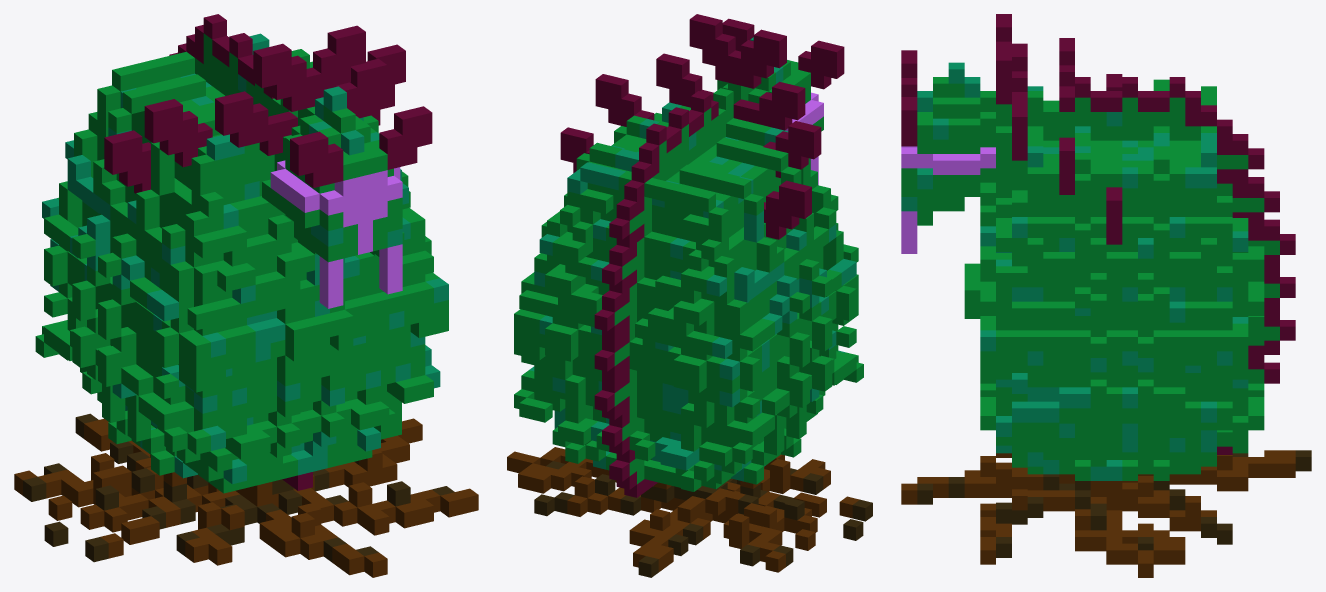
Rendered from Boss_Boss_Suculentas_fase_4.obj.
The picture shows the model from 3 angles, left to right: view 1: azimuth 30°, elevation 25°; view 2: azimuth 150°, elevation 25°; view 3: azimuth 270°, elevation 25°; orthographic projection. The views are drawn at different scales.
Visible parts, largest first — view 1: Boss_Boss_Suculentas_fase_4; view 2: Boss_Boss_Suculentas_fase_4; view 3: Boss_Boss_Suculentas_fase_4.
Part boxes in pixels (left/top/right/bottom): Boss_Boss_Suculentas_fase_4: left=14, top=14, right=478, bottom=577; Boss_Boss_Suculentas_fase_4: left=507, top=14, right=872, bottom=577; Boss_Boss_Suculentas_fase_4: left=901, top=14, right=1311, bottom=577.
Size of the model in its own units: 26 by 32 by 26.
Materials: 1 (1 with a texture image).
